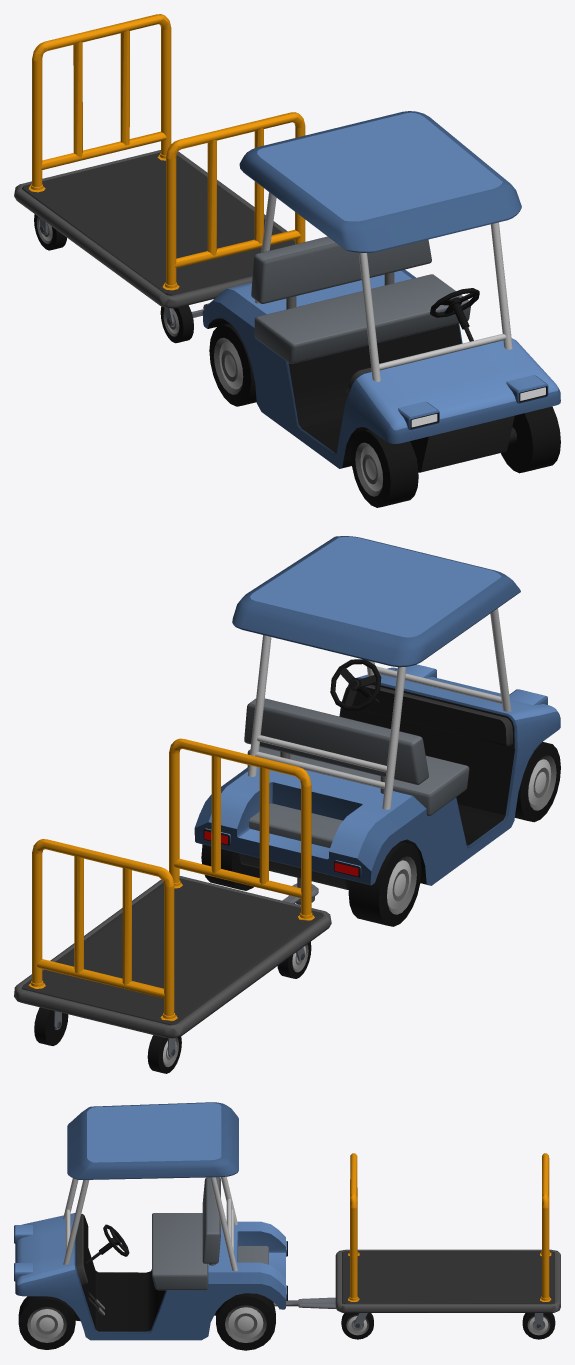
Rendered from Baggage Cart.fbx.
3 views of the same model, one above another, from view 1: azimuth 30°, elevation 25°; view 2: azimuth 150°, elevation 25°; view 3: azimuth 270°, elevation 25° (orthographic). The views are drawn at different scales.
Visible parts, largest first — view 1: Baggage_Cart_Body, Cart, F_R (×2), F_L, B_R; view 2: Baggage_Cart_Body, Cart, B_R (×2), F_R, B_L (×2); view 3: Baggage_Cart_Body, Cart, B_L (×2), F_L (×2), Connector.
Boxes of the visible parts, x1,y1,x2,y2 form: Baggage_Cart_Body: (202, 111, 560, 472); Cart: (14, 14, 305, 326); F_R (×2): (160, 305, 418, 507); F_L: (501, 406, 560, 473); B_R: (209, 323, 256, 406); Baggage_Cart_Body: (194, 536, 560, 889); Cart: (14, 738, 331, 1057); B_R (×2): (147, 841, 421, 1073); F_R: (515, 742, 560, 822); B_L (×2): (34, 844, 259, 1045); Baggage_Cart_Body: (14, 1102, 287, 1340); Cart: (335, 1153, 560, 1329); B_L (×2): (216, 1293, 555, 1350); F_L (×2): (18, 1296, 373, 1349); Connector: (273, 1297, 336, 1309).
Size of the model in its own units: 135 by 187 by 491.
